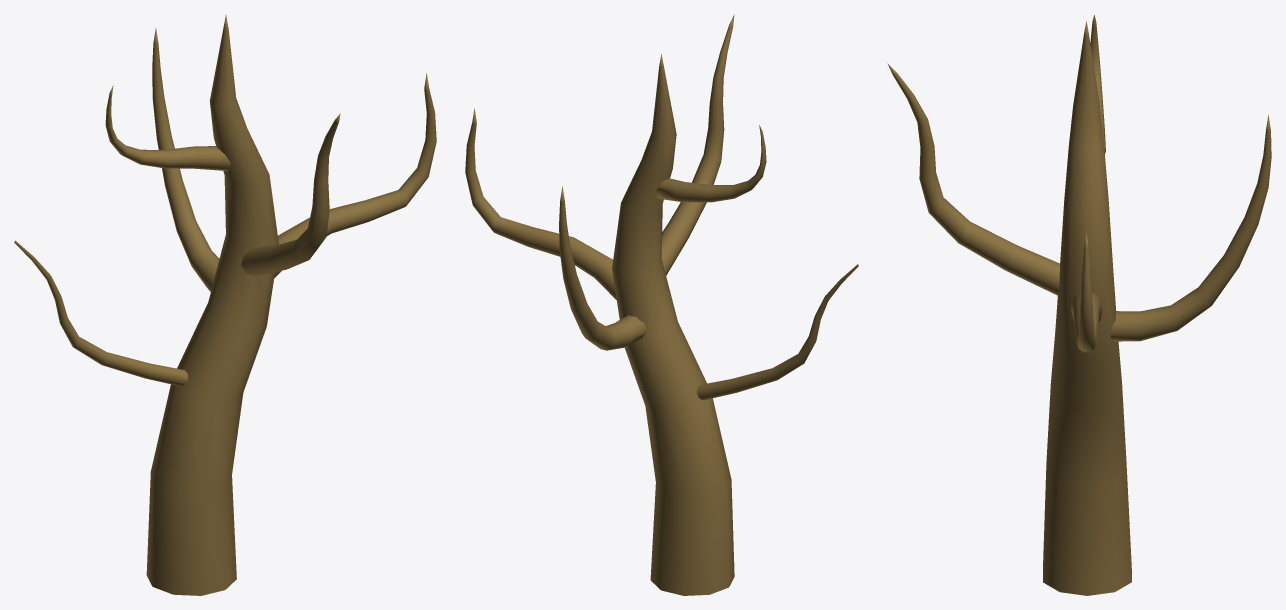
The model's file is Tree.fbx.
3 views of the same model, side by side, from view 1: azimuth 30°, elevation 25°; view 2: azimuth 150°, elevation 25°; view 3: azimuth 270°, elevation 25° (orthographic). The views are drawn at different scales.
Parts seen in each view (by area): view 1: polySurface27; view 2: polySurface27; view 3: polySurface27.
Boxes of the visible parts, box(x1,y1,x2,y2) form: polySurface27: box(14, 15, 436, 595); polySurface27: box(465, 15, 858, 595); polySurface27: box(887, 14, 1271, 595).
Bounding box in the file's own units: 38.91 × 48.98 × 29.77.
